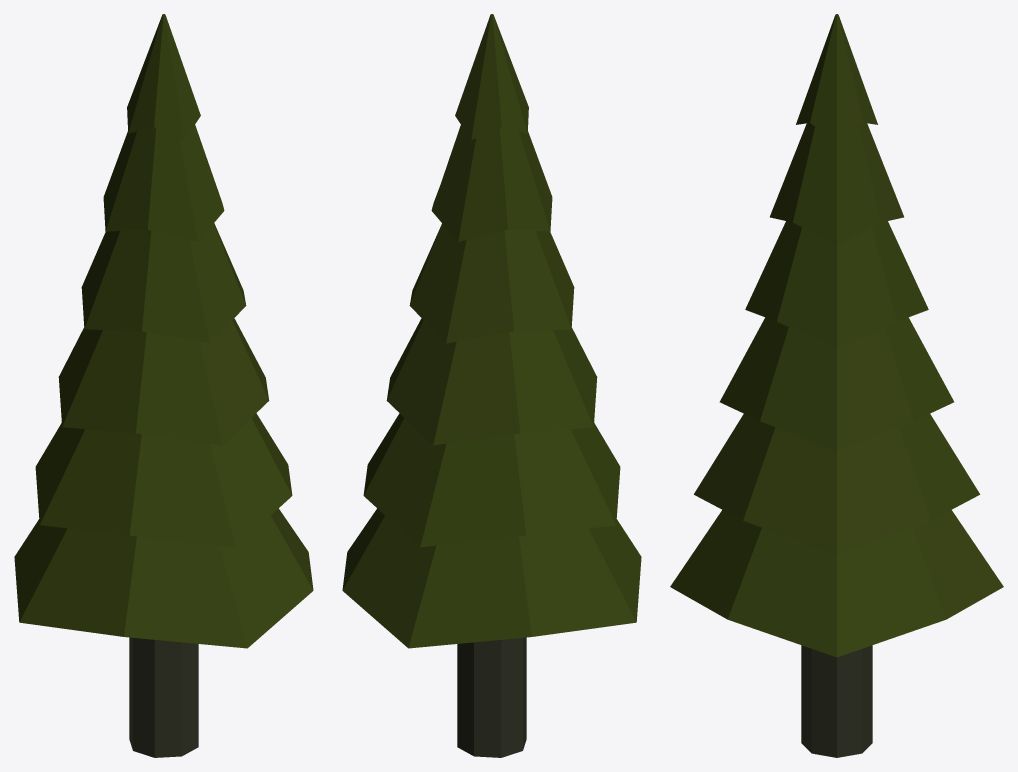
File: Tree_Tall1.fbx
3 renders of one model, left to right at view 1: azimuth 30°, elevation 25°; view 2: azimuth 150°, elevation 25°; view 3: azimuth 270°, elevation 25°, orthographic.
Visible parts, largest first — view 1: Tree_Tall:Mesh; view 2: Tree_Tall:Mesh; view 3: Tree_Tall:Mesh.
Part boxes in pixels (x1,y1,x2,y2): Tree_Tall:Mesh: (14,14,313,757); Tree_Tall:Mesh: (342,14,641,757); Tree_Tall:Mesh: (670,14,1003,757).
Size of the model in its own units: 208 by 501 by 208.
